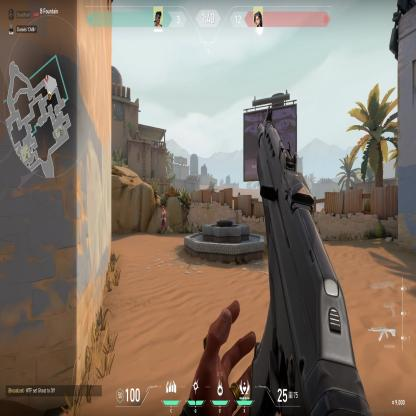enemy: (160, 204, 166, 234)
